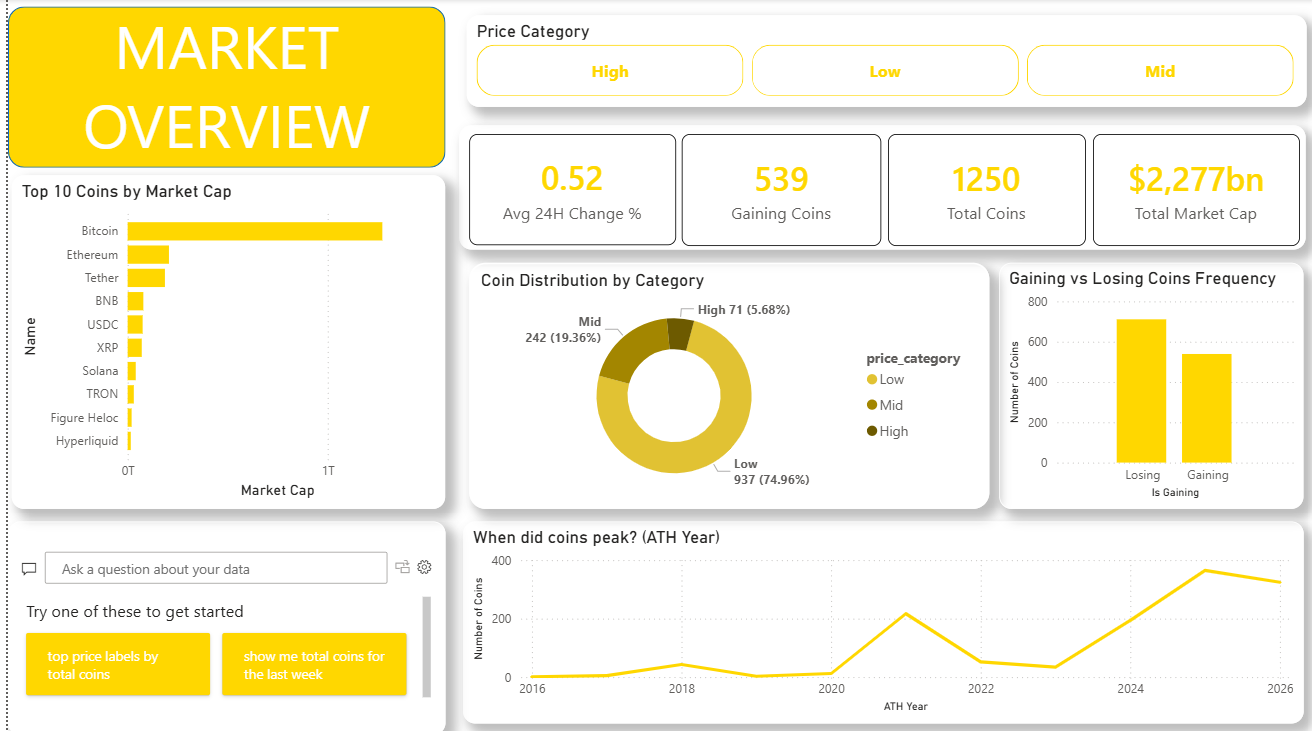

Layout of this report page (visuals, bound fields, positions):
{"tool":"powerbi","page":{"name":"Market Overview","canvas":[1280,720],"ordinal":0},"visuals":[{"type":"shape","box":[441.6,122.9,827.7,121.2],"z":0},{"type":"cardVisual","fields":{"Data":["MeasureTable.Gaining Coins"]},"box":[659.4,131.6,195.2,109.9],"z":1000},{"type":"cardVisual","fields":{"Data":["MeasureTable.Total Coins"]},"box":[861.5,131.6,193.6,109.2],"z":2000},{"type":"cardVisual","fields":{"Data":["MeasureTable.Total Market Cap"]},"box":[1061,131.6,202,109.2],"z":3000},{"type":"cardVisual","fields":{"Data":["MeasureTable.Avg 24H Change"]},"box":[451,132,202,108.8],"z":4000},{"type":"clusteredBarChart","title":"Top 10 Coins by Market Cap","fields":{"Y":["Sum(clean_crypto_final.market_cap)"],"Category":["clean_crypto_final.id","clean_crypto_final.name"]},"box":[3.7,172.4,424.3,326.5],"z":5000},{"type":"donutChart","title":"Coin Distribution by Category","fields":{"Category":["clean_crypto_final.price_category"],"Y":["CountNonNull(clean_crypto_final.id)"]},"box":[451.2,258,508.7,240.9],"z":6000},{"type":"clusteredColumnChart","title":"Gaining vs Losing Coins Frequency","fields":{"Category":["clean_crypto_final.Is Gaining"],"Y":["CountNonNull(clean_crypto_final.id)"]},"box":[969.7,258,297.8,240.7],"z":7000},{"type":"lineChart","title":"When did coins peak? (ATH Year)","fields":{"Category":["clean_crypto_final.ath_year"],"Y":["CountNonNull(clean_crypto_final.id)"]},"box":[445,510.8,822.5,197.4],"z":8000},{"type":"advancedSlicerVisual","fields":{"Values":["clean_crypto_final.price_category"]},"box":[448.8,15.9,821.7,89.3],"z":9000},{"type":"qnaVisual","box":[0,511.1,428,196.9],"z":10000},{"type":"shape","box":[0,7.3,428,157.7],"z":11000},{"type":"textbox","box":[17.1,0,393.8,165.1],"z":12000}]}

Visuals, with their boxes in screenshot pixels (x1, y1, x2, y2), scaled from the page's 1280x720 canvas onto the 1312x731 screenshot:
shape: x1=453 y1=125 x2=1301 y2=248
cardVisual - MeasureTable.Gaining Coins: x1=676 y1=134 x2=876 y2=245
cardVisual - MeasureTable.Total Coins: x1=883 y1=134 x2=1081 y2=244
cardVisual - MeasureTable.Total Market Cap: x1=1088 y1=134 x2=1295 y2=244
cardVisual - MeasureTable.Avg 24H Change: x1=462 y1=134 x2=669 y2=244
"Top 10 Coins by Market Cap" clusteredBarChart: x1=4 y1=175 x2=439 y2=507
"Coin Distribution by Category" donutChart: x1=462 y1=262 x2=984 y2=507
"Gaining vs Losing Coins Frequency" clusteredColumnChart: x1=994 y1=262 x2=1299 y2=506
"When did coins peak? (ATH Year)" lineChart: x1=456 y1=519 x2=1299 y2=719
advancedSlicerVisual - clean_crypto_final.price_category: x1=460 y1=16 x2=1302 y2=107
qnaVisual: x1=0 y1=519 x2=439 y2=719
shape: x1=0 y1=7 x2=439 y2=168
textbox: x1=18 y1=0 x2=421 y2=168
